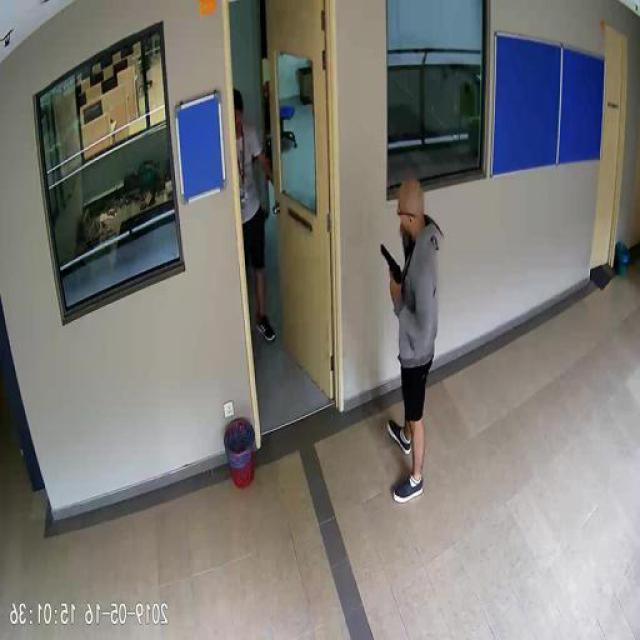weapon: (377, 243, 407, 300)
